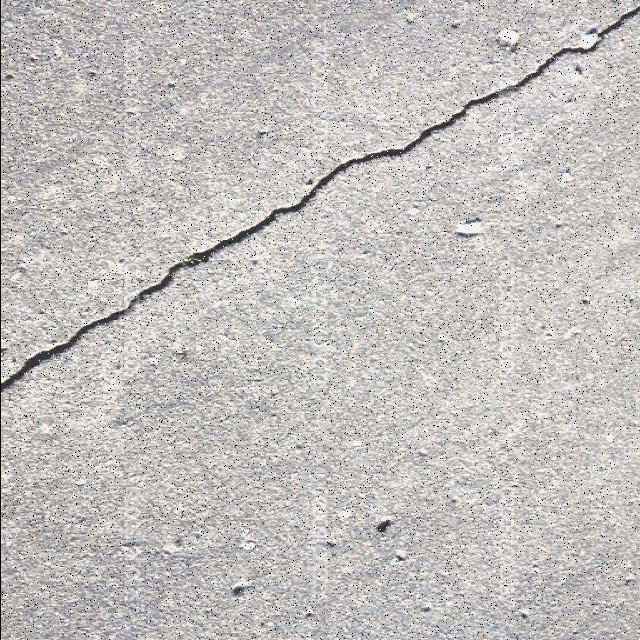crack: (1, 3, 638, 393), (4, 7, 483, 135), (27, 489, 346, 635), (10, 4, 197, 95), (8, 286, 162, 392), (493, 10, 619, 63), (37, 181, 73, 207), (25, 38, 59, 64), (3, 357, 30, 385), (163, 142, 189, 164), (82, 275, 112, 294)
dampens: (130, 267, 183, 304), (12, 346, 60, 375), (255, 208, 283, 231), (268, 204, 297, 221), (95, 312, 117, 326)
